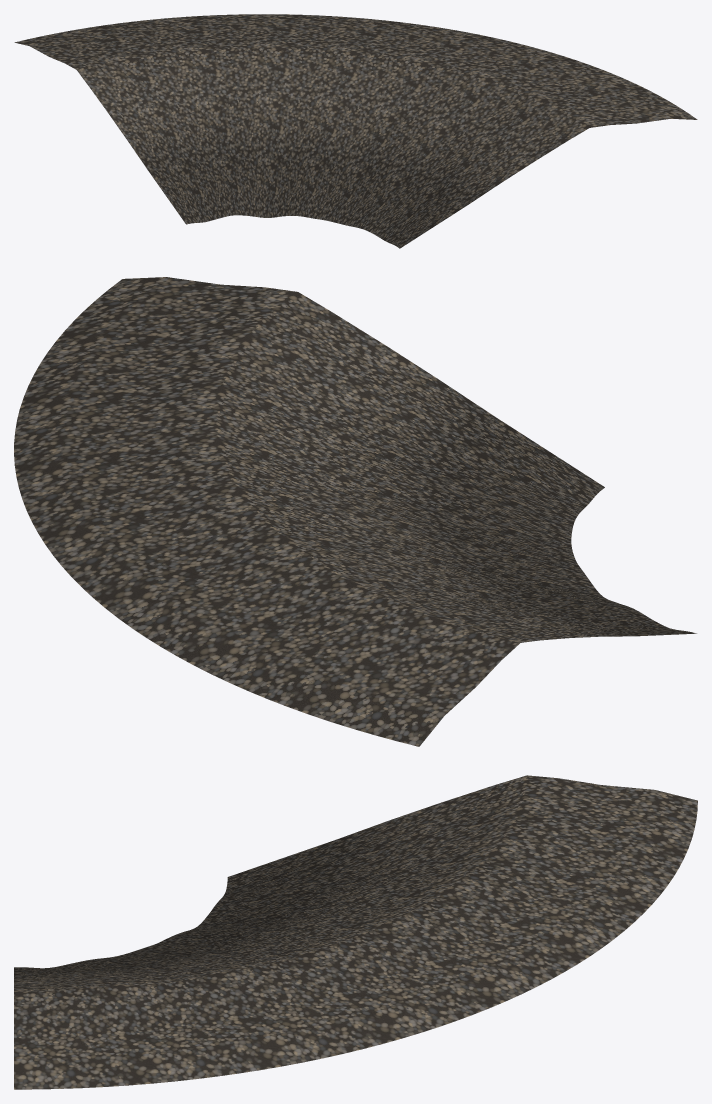
Rendered from beach_shingle_inner_v5_dead.glb.
3 views of the same model, one above another, from view 1: azimuth 30°, elevation 25°; view 2: azimuth 150°, elevation 25°; view 3: azimuth 270°, elevation 25° (orthographic). The views are drawn at different scales.
Parts seen in each view (by area): view 1: beach_shingle_inner; view 2: beach_shingle_inner; view 3: beach_shingle_inner.
Boxes of the visible parts, <box> form: beach_shingle_inner: <box>14,14,697,248</box>; beach_shingle_inner: <box>14,277,696,746</box>; beach_shingle_inner: <box>14,775,697,1089</box>.
Bounding box in the file's own units: 6.4 × 1.1 × 6.4.
Materials: 1 (1 with a texture image).
